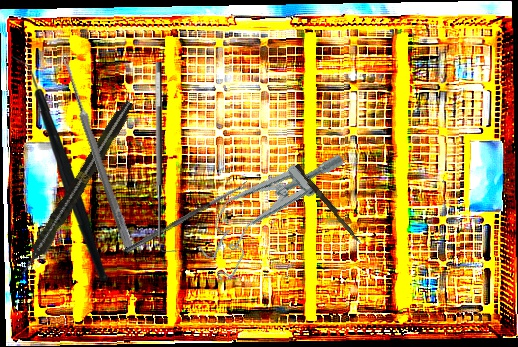Chopper: (7, 54, 112, 282)
Handpiece: (14, 97, 138, 280)
Hook Surgical: (152, 62, 177, 252)
Pusher: (292, 163, 366, 246)
Speculum: (183, 125, 354, 286)
Surgical Spoon: (58, 51, 134, 249), (123, 181, 250, 255)
